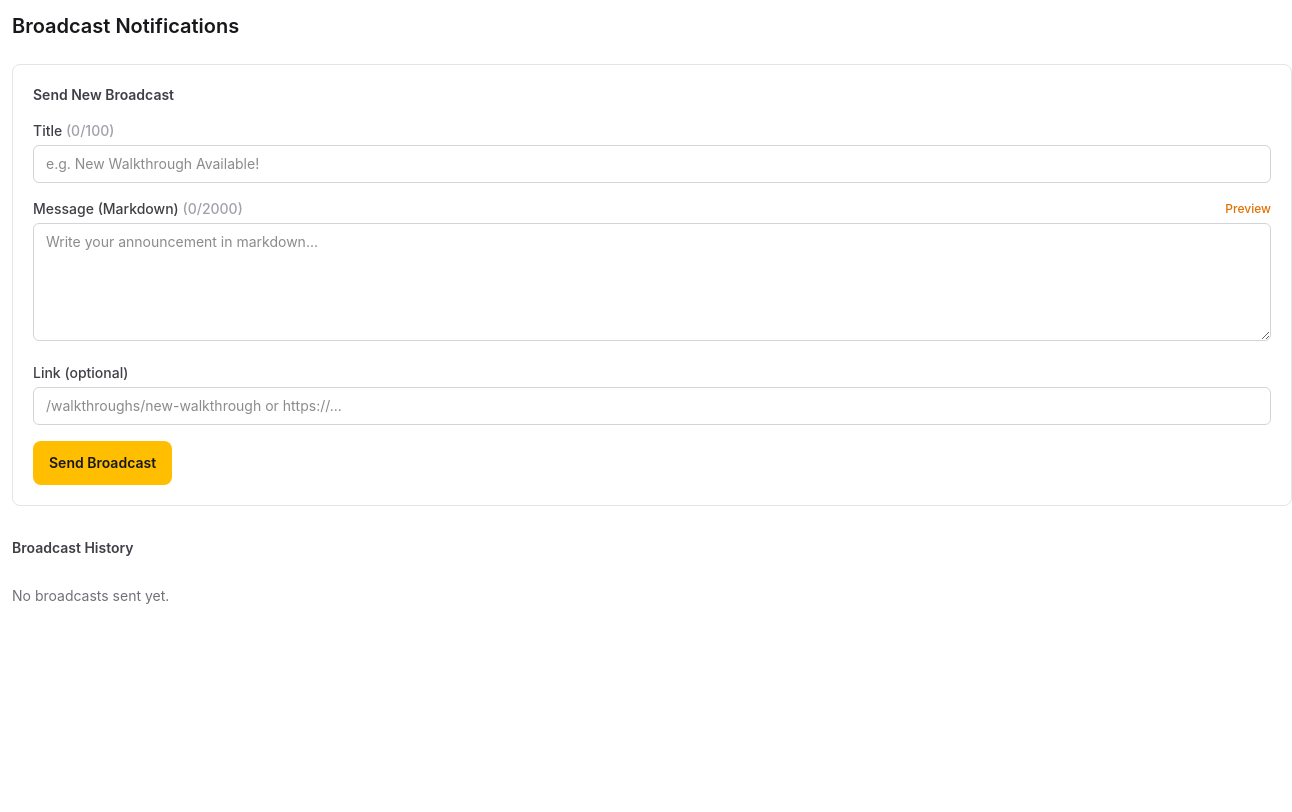
it: surfaces a send error
Expected: the text "No broadcasts sent yet." is shown, [12, 587, 169, 604]
In the field labelled "Title (0/100)": {"x": 652, "y": 164} [33, 145, 1271, 183], type "Big News"
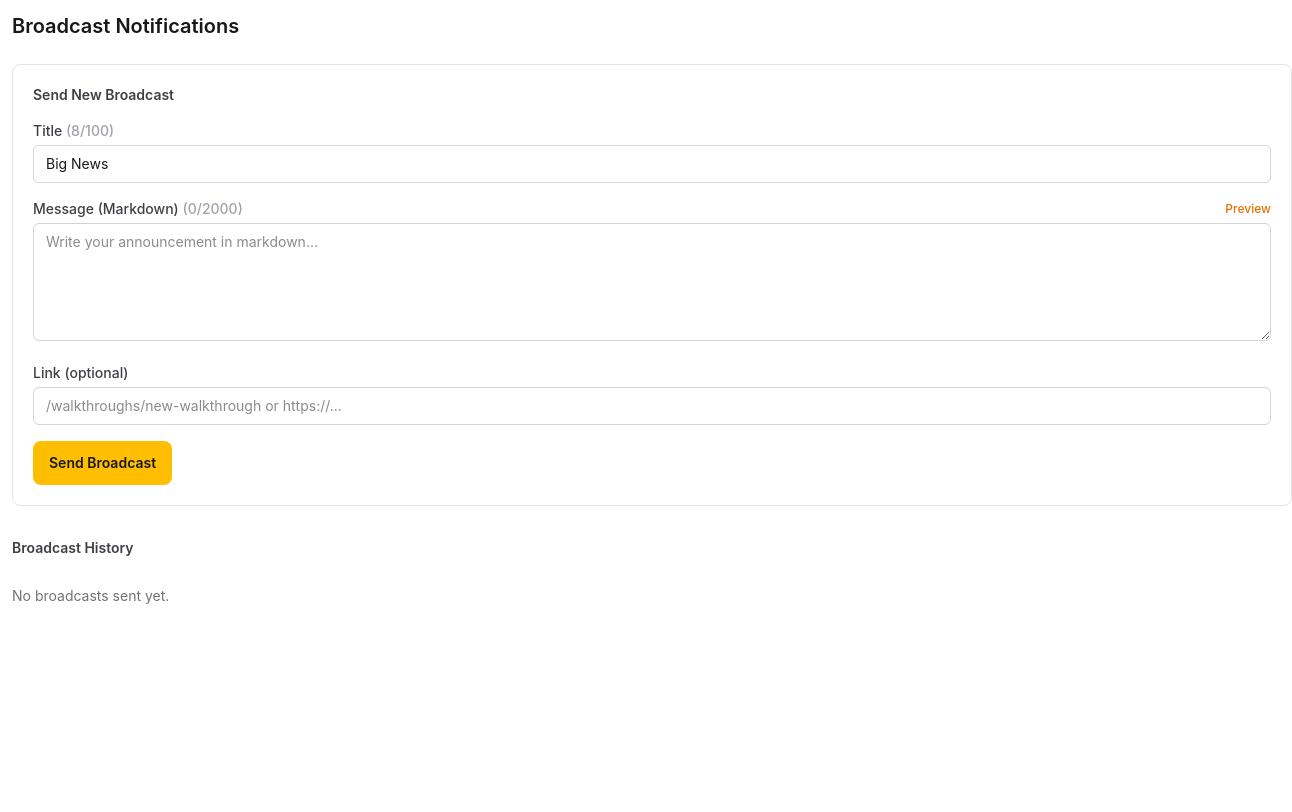
In the text box labelled "Message (Markdown) (0/2000)": {"x": 652, "y": 282} [33, 223, 1271, 341], type "Something happened"
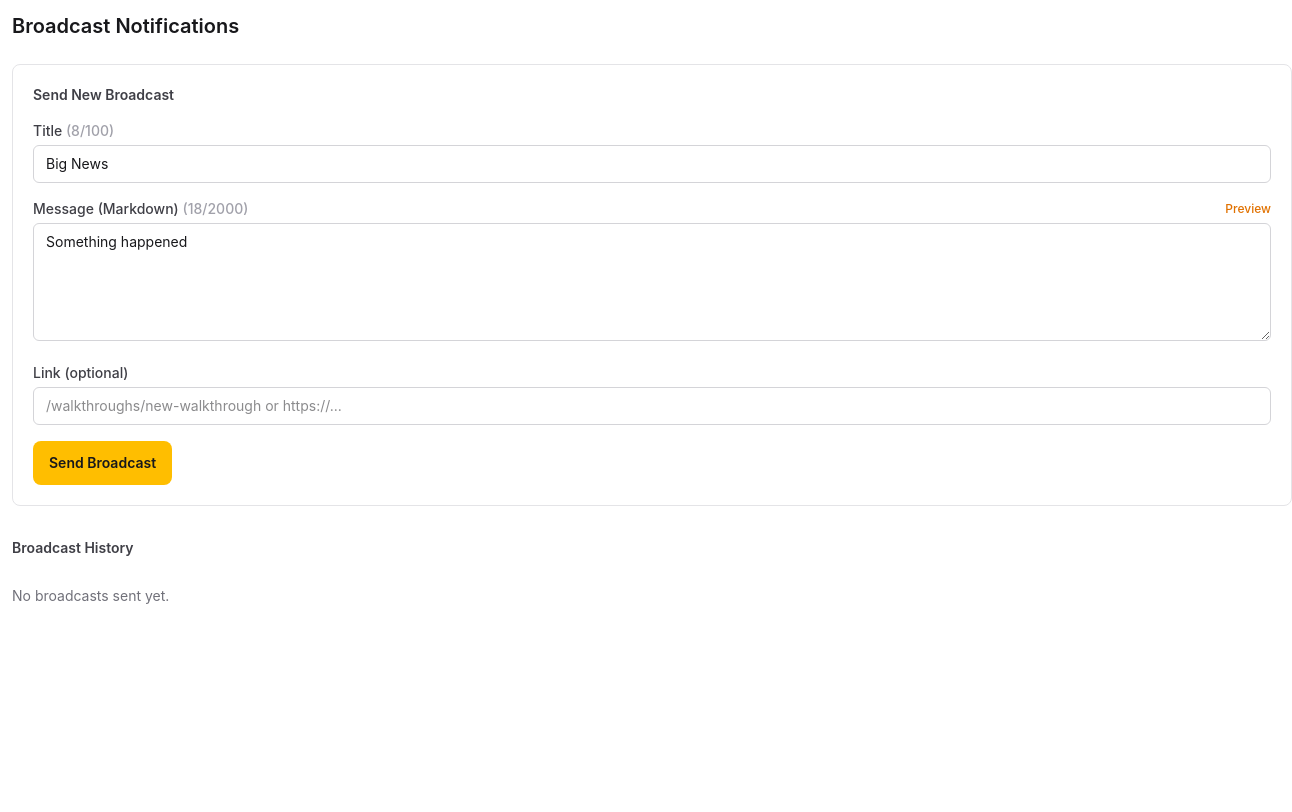
Click the button "Send Broadcast": {"x": 103, "y": 463} [33, 441, 172, 485]
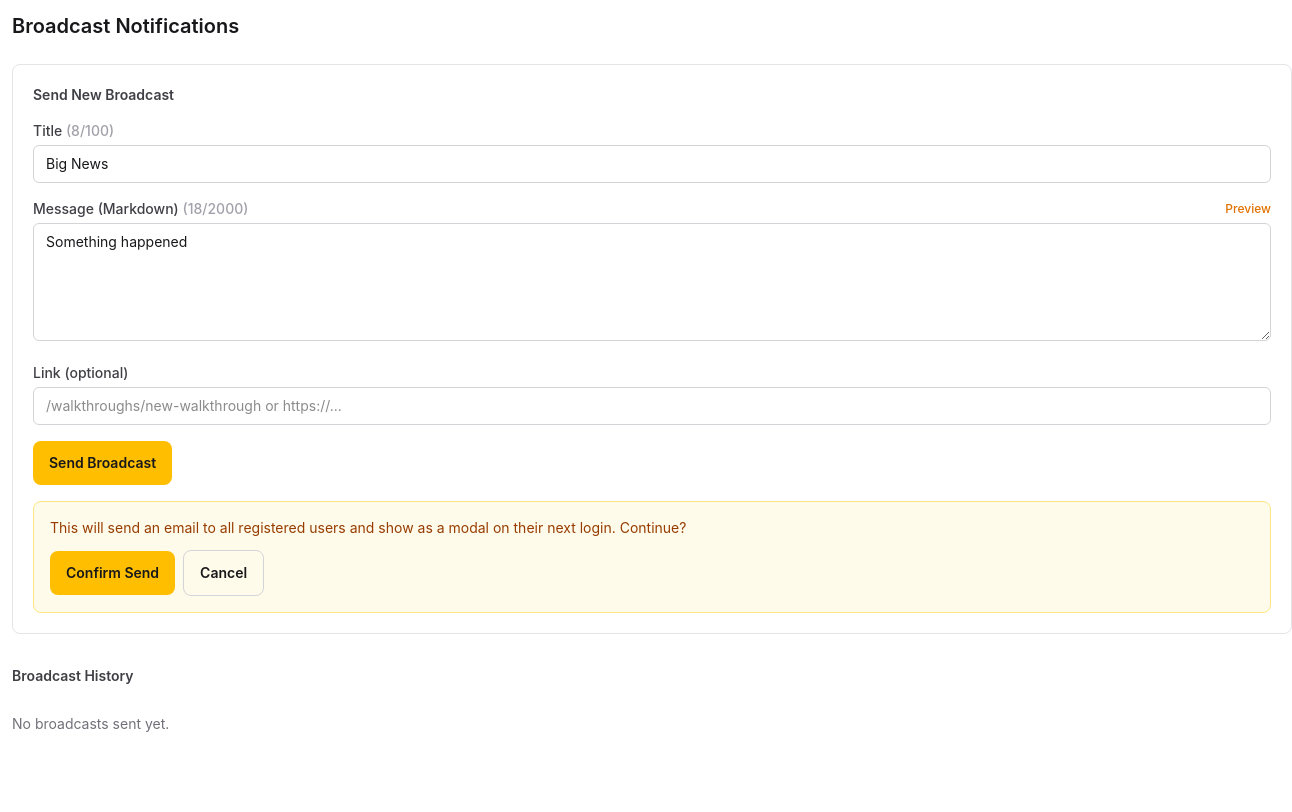
Click the button "Confirm Send": {"x": 113, "y": 573} [50, 551, 175, 595]
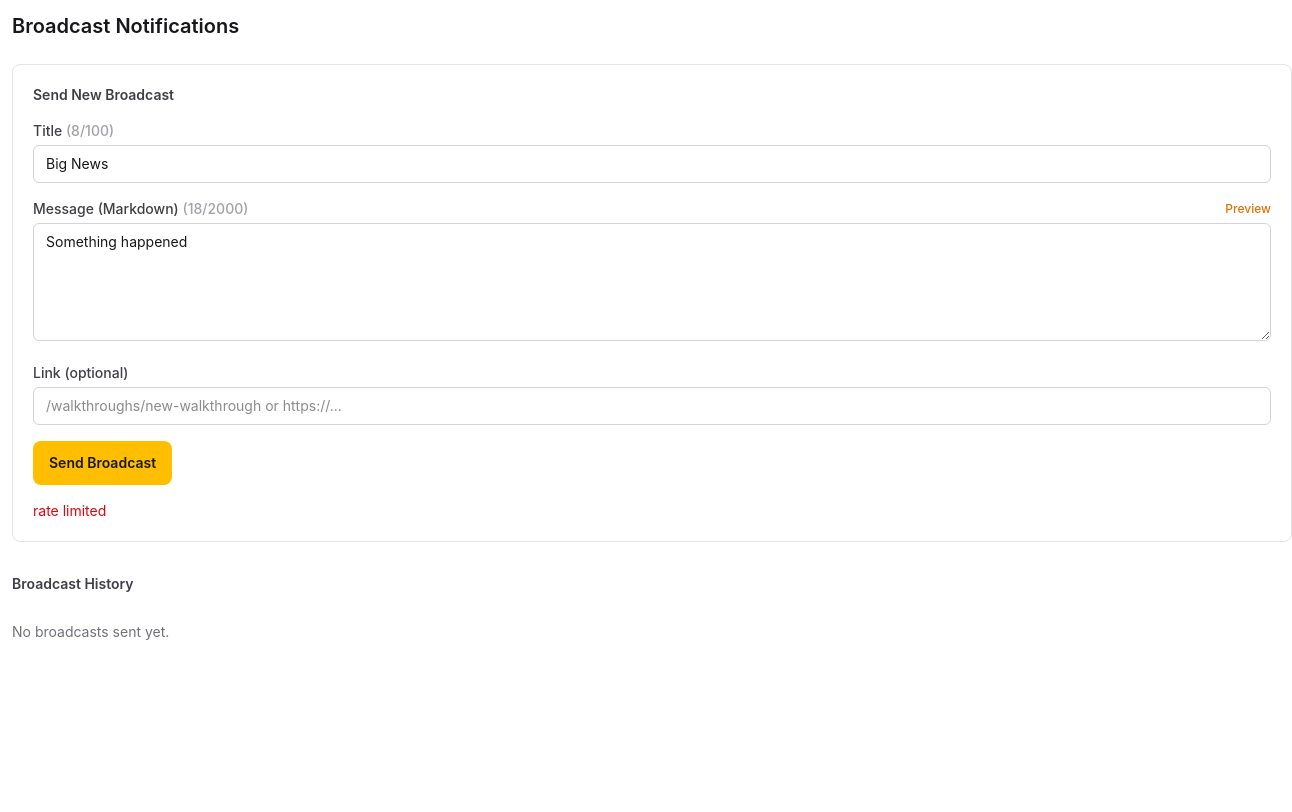
Expected: the text "rate limited" is shown, [33, 502, 106, 519]
